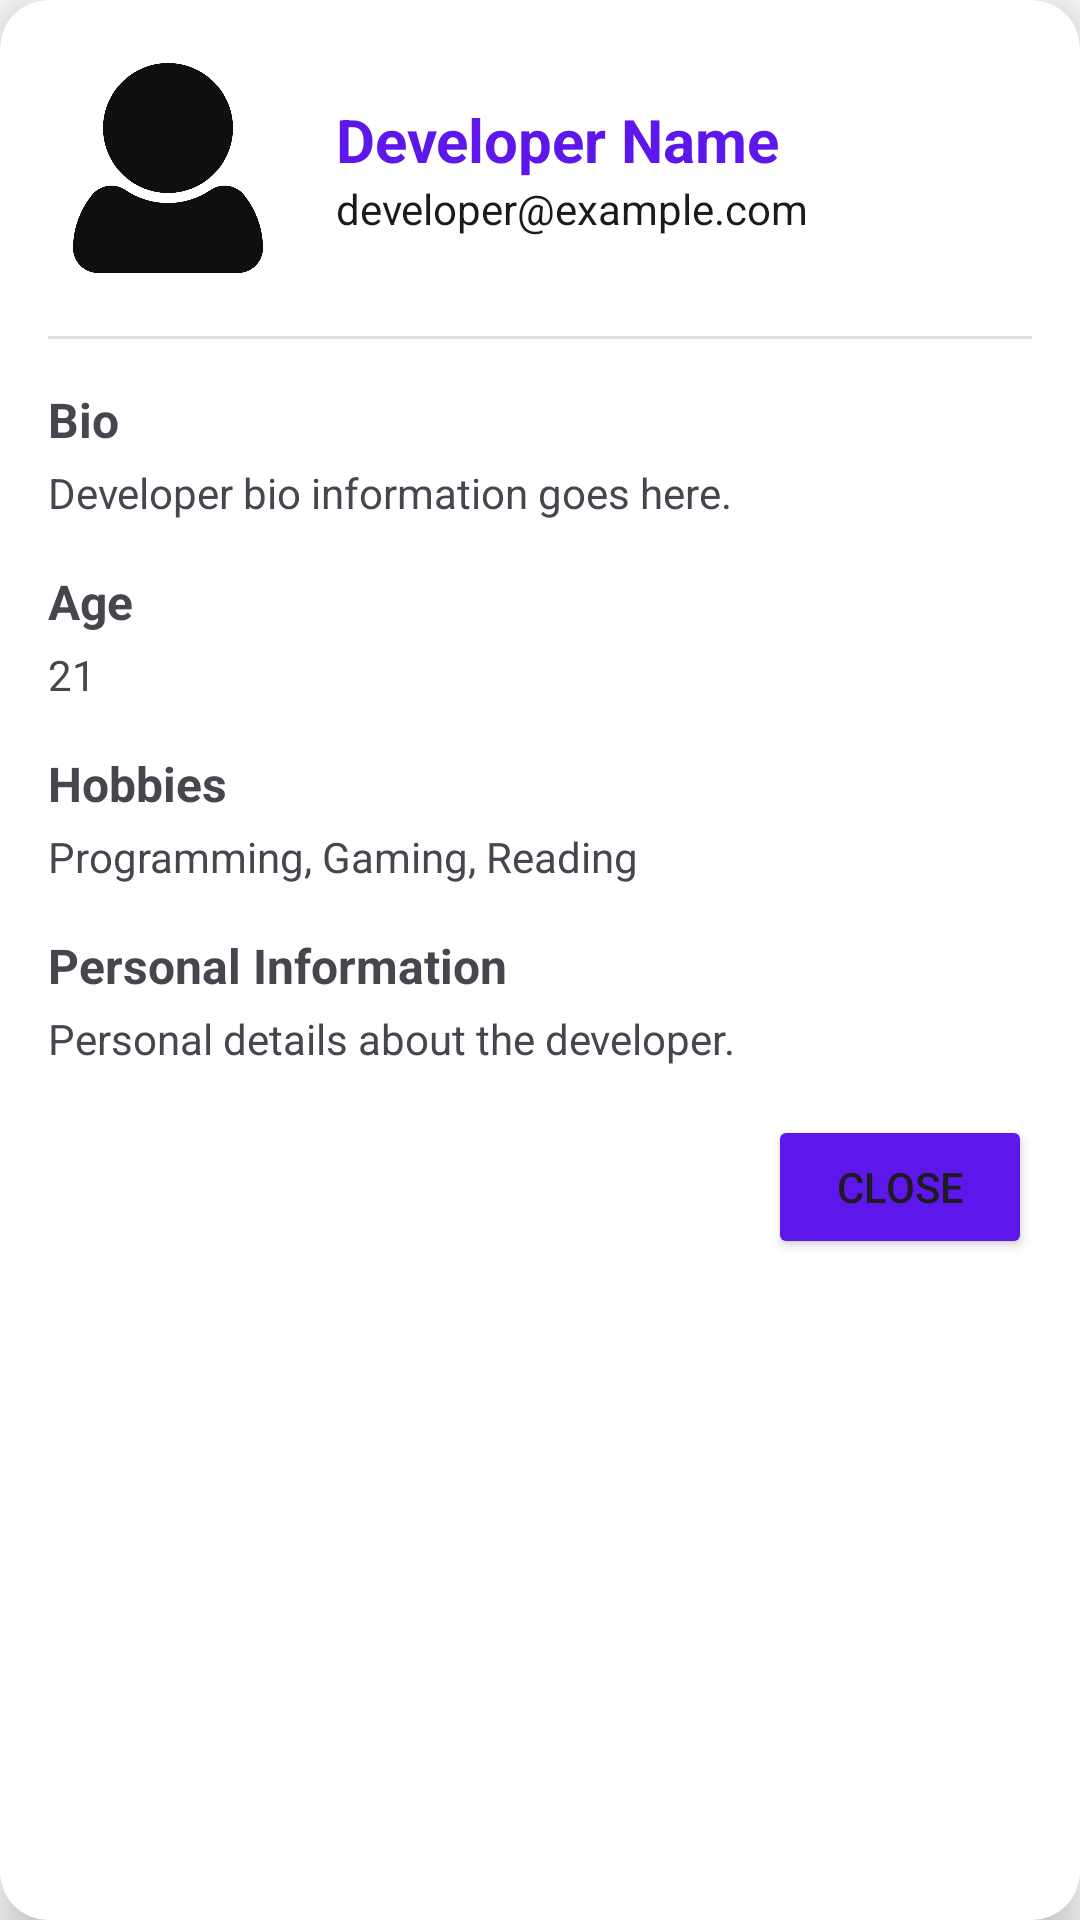

Locate icon controls on the screen. Image size 1080*1920, boxes as [x1,y1,x2,y2].
user: [73,63,263,273]
